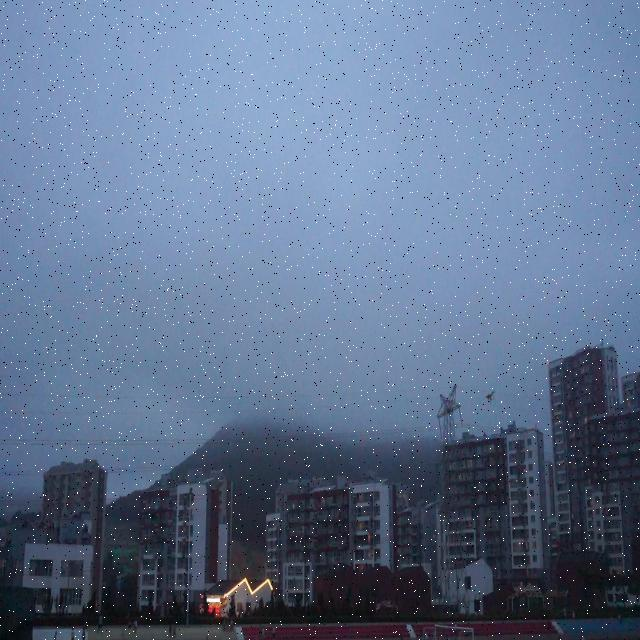UAV: (484, 389, 496, 403)
